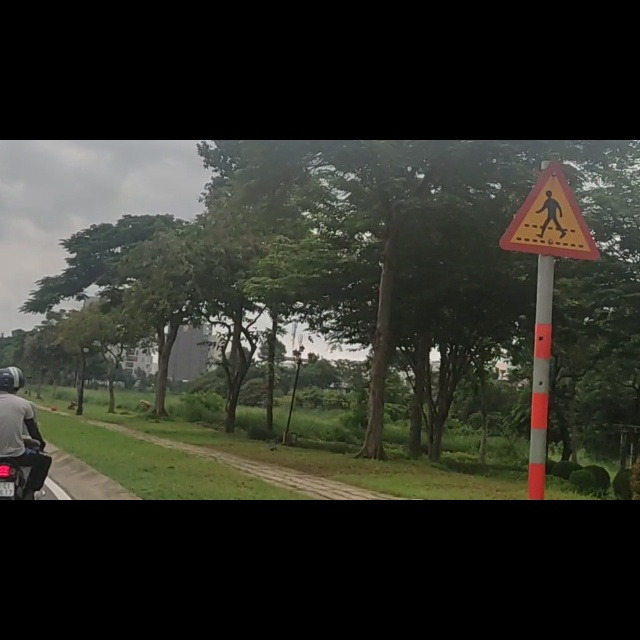bien_nguy_hiem: (499, 37, 601, 213)
